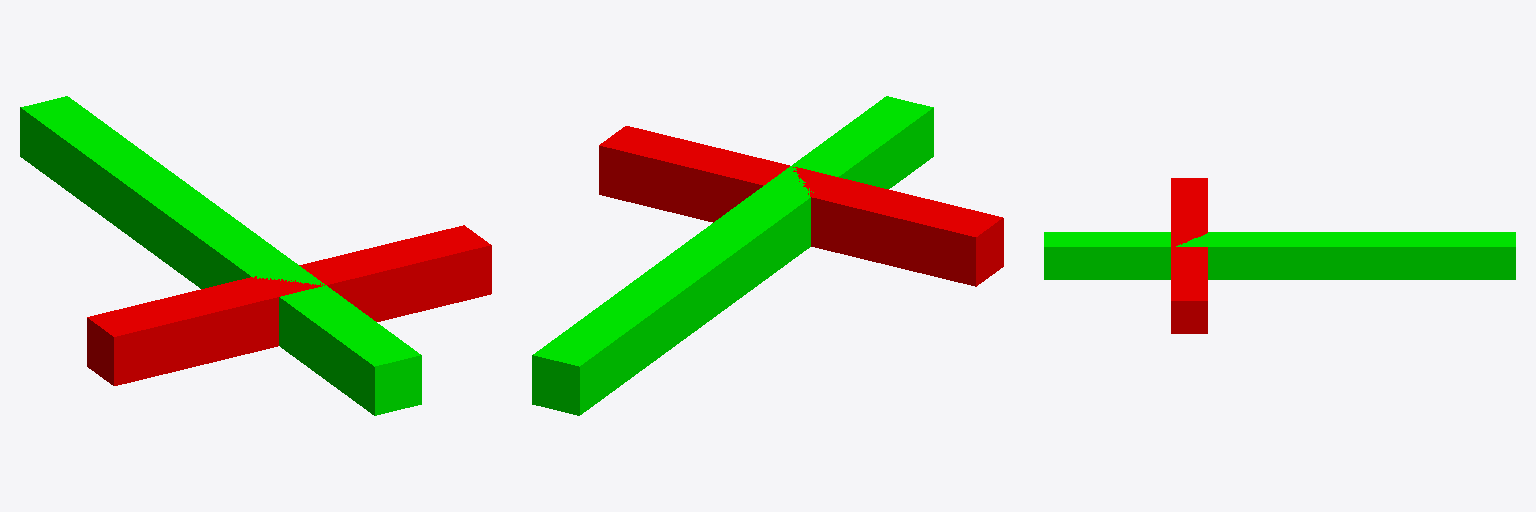
The robot description file, URDF, robot "simple_sliders":
<?xml version="1.0"?>
<!-- created with Phobos 1.0.1 "Capricious Choutengan" -->
  <robot name="simple_sliders">

    <link name="base_link">
      <inertial>
        <origin xyz="0 0 0" rpy="0 0 0"/>
        <mass value="0.001"/>
        <inertia ixx="0.001" ixy="0" ixz="0" iyy="0.001" iyz="0" izz="0.001"/>
      </inertial>
      <visual name="visual_cube_base">
        <origin xyz="0 0 0" rpy="0 0 0"/>
        <geometry>
          <box size="0 0 0.2"/>
        </geometry>
        <material name="lavender"/>
      </visual>
    </link>

    <link name="goal">
      <inertial>
        <origin xyz="0 0 0" rpy="0 0 0"/>
        <mass value="0.001"/>
        <inertia ixx="0.001" ixy="0" ixz="0" iyy="0.001" iyz="0" izz="0.001"/>
      </inertial>
      <visual name="visual_cube_0.001">
        <origin xyz="0 0 0" rpy="0 0 0"/>
        <geometry>
          <box size="0.2 0.2 1.6"/>
        </geometry>
        <material name="green_semitransparent"/>
      </visual>
    </link>

    <link name="link_0">
      <inertial>
        <origin xyz="0 0 0" rpy="0 0 0"/>
        <mass value="0.001"/>
        <inertia ixx="0.001" ixy="0" ixz="0" iyy="0.001" iyz="0" izz="0.001"/>
      </inertial>
      <visual name="visual_cube_0">
        <origin xyz="0 0 0" rpy="0 0 0"/>
        <geometry>
          <box size="0.2 0.2 1.6"/>
        </geometry>
        <material name="green"/>
      </visual>
      <collision name="collision_cube_0">
        <origin xyz="0 0 0" rpy="0 0 0"/>
        <geometry>
          <box size="0.2 0.2 1.6"/>
        </geometry>
      </collision>
    </link>

    <link name="link_1">
      <inertial>
        <origin xyz="0 0 0" rpy="0 0 0"/>
        <mass value="0.001"/>
        <inertia ixx="0.001" ixy="0" ixz="0" iyy="0.001" iyz="0" izz="0.001"/>
      </inertial>
      <visual name="visual_cube_1">
        <origin xyz="0 0 0" rpy="0 0 0"/>
        <geometry>
          <box size="0.2 0.2 1.6"/>
        </geometry>
        <material name="red"/>
      </visual>
      <collision name="collision_cube_1">
        <origin xyz="0 0 0" rpy="0 0 0"/>
        <geometry>
          <box size="0.2 0.2 1.6"/>
        </geometry>
      </collision>
    </link>

    <joint name="goal" type="fixed">
      <origin xyz="0 -1.0 0.2" rpy="1.5708 0 0"/>
      <parent link="base_link"/>
      <child link="goal"/>
      <limit effort="0" velocity="0"/>
    </joint>

    <joint name="link_0" type="prismatic">
      <origin xyz="0 0 0.2" rpy="1.5708 0 0"/>
      <parent link="base_link"/>
      <child link="link_0"/>
      <axis xyz="0 0 1"/>
      <limit lower="0" upper="1.0" effort="0" velocity="0"/>
    </joint>

    <joint name="link_1" type="prismatic">
      <origin xyz="0 -1.0 0.2" rpy="0 1.5708 0"/>
      <parent link="base_link"/>
      <child link="link_1"/>
      <axis xyz="0 0 1"/>
      <limit lower="0" upper="1.0" effort="0" velocity="0"/>
    </joint>

    <material name="green">
      <color rgba="0 1.0 0 1.0"/>
    </material>

    <material name="green_semitransparent">
      <color rgba="0 1.0 0 0.25"/>
    </material>

    <material name="lavender">
      <color rgba="0.8 0.8 1.0 1.0"/>
    </material>

    <material name="red">
      <color rgba="1.0 0 0 1.0"/>
    </material>

  </robot>

--- Render facts (derived) ---
Views: 3 orthographic renders of the robot side by side, from view 1: azimuth 30°, elevation 25°; view 2: azimuth 150°, elevation 25°; view 3: azimuth 270°, elevation 25°.
Robot: simple_sliders — 4 links, 3 joints (2 prismatic, 1 fixed); root link base_link; default pose: every joint at zero.
Links seen in each view (by area): view 1: link_1, goal, link_0; view 2: link_1, link_0, goal; view 3: goal, link_0, link_1.
Boxes of the visible links, x1=… form: link_1: x1=87, y1=225, x2=491, y2=385; goal: x1=157, y1=196, x2=421, y2=415; link_0: x1=20, y1=96, x2=234, y2=288; link_1: x1=599, y1=126, x2=1003, y2=286; link_0: x1=532, y1=210, x2=797, y2=415; goal: x1=669, y1=96, x2=933, y2=314; goal: x1=1044, y1=232, x2=1333, y2=279; link_0: x1=1226, y1=232, x2=1515, y2=279; link_1: x1=1171, y1=178, x2=1207, y2=333.
Size in the robot's own frame: 1.6 by 2.6 by 0.4 metres.
Geometry: primitives only (box / cylinder / sphere), no mesh files.